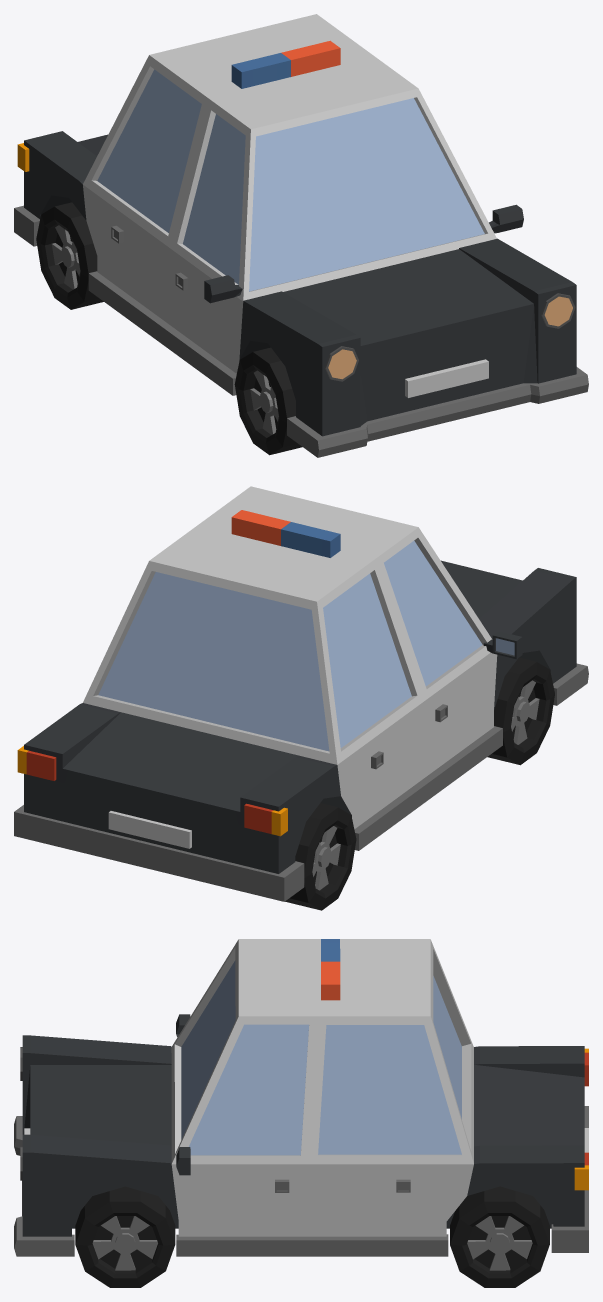
The model's file is Car_01.glb.
3 renders of one model, top to bottom at view 1: azimuth 30°, elevation 25°; view 2: azimuth 150°, elevation 25°; view 3: azimuth 270°, elevation 25°, orthographic. The views are drawn at different scales.
Parts seen in each view (by area): view 1: Car_01, Wheel_04, Wheel_03; view 2: Car_01, Wheel_03, Wheel_04; view 3: Car_01, Wheel_01, Wheel_02.
Part boxes in pixels (<box>): Car_01: <box>14,14,588,457</box>; Wheel_04: <box>36,202,103,309</box>; Wheel_03: <box>234,347,302,455</box>; Car_01: <box>14,486,588,901</box>; Wheel_03: <box>487,657,554,765</box>; Wheel_04: <box>285,803,356,910</box>; Car_01: <box>14,939,588,1256</box>; Wheel_01: <box>75,1186,175,1287</box>; Wheel_02: <box>450,1186,549,1287</box>.
Size of the model in its own units: 1.97 by 1.69 by 3.33.
1 material, 1 textured.
